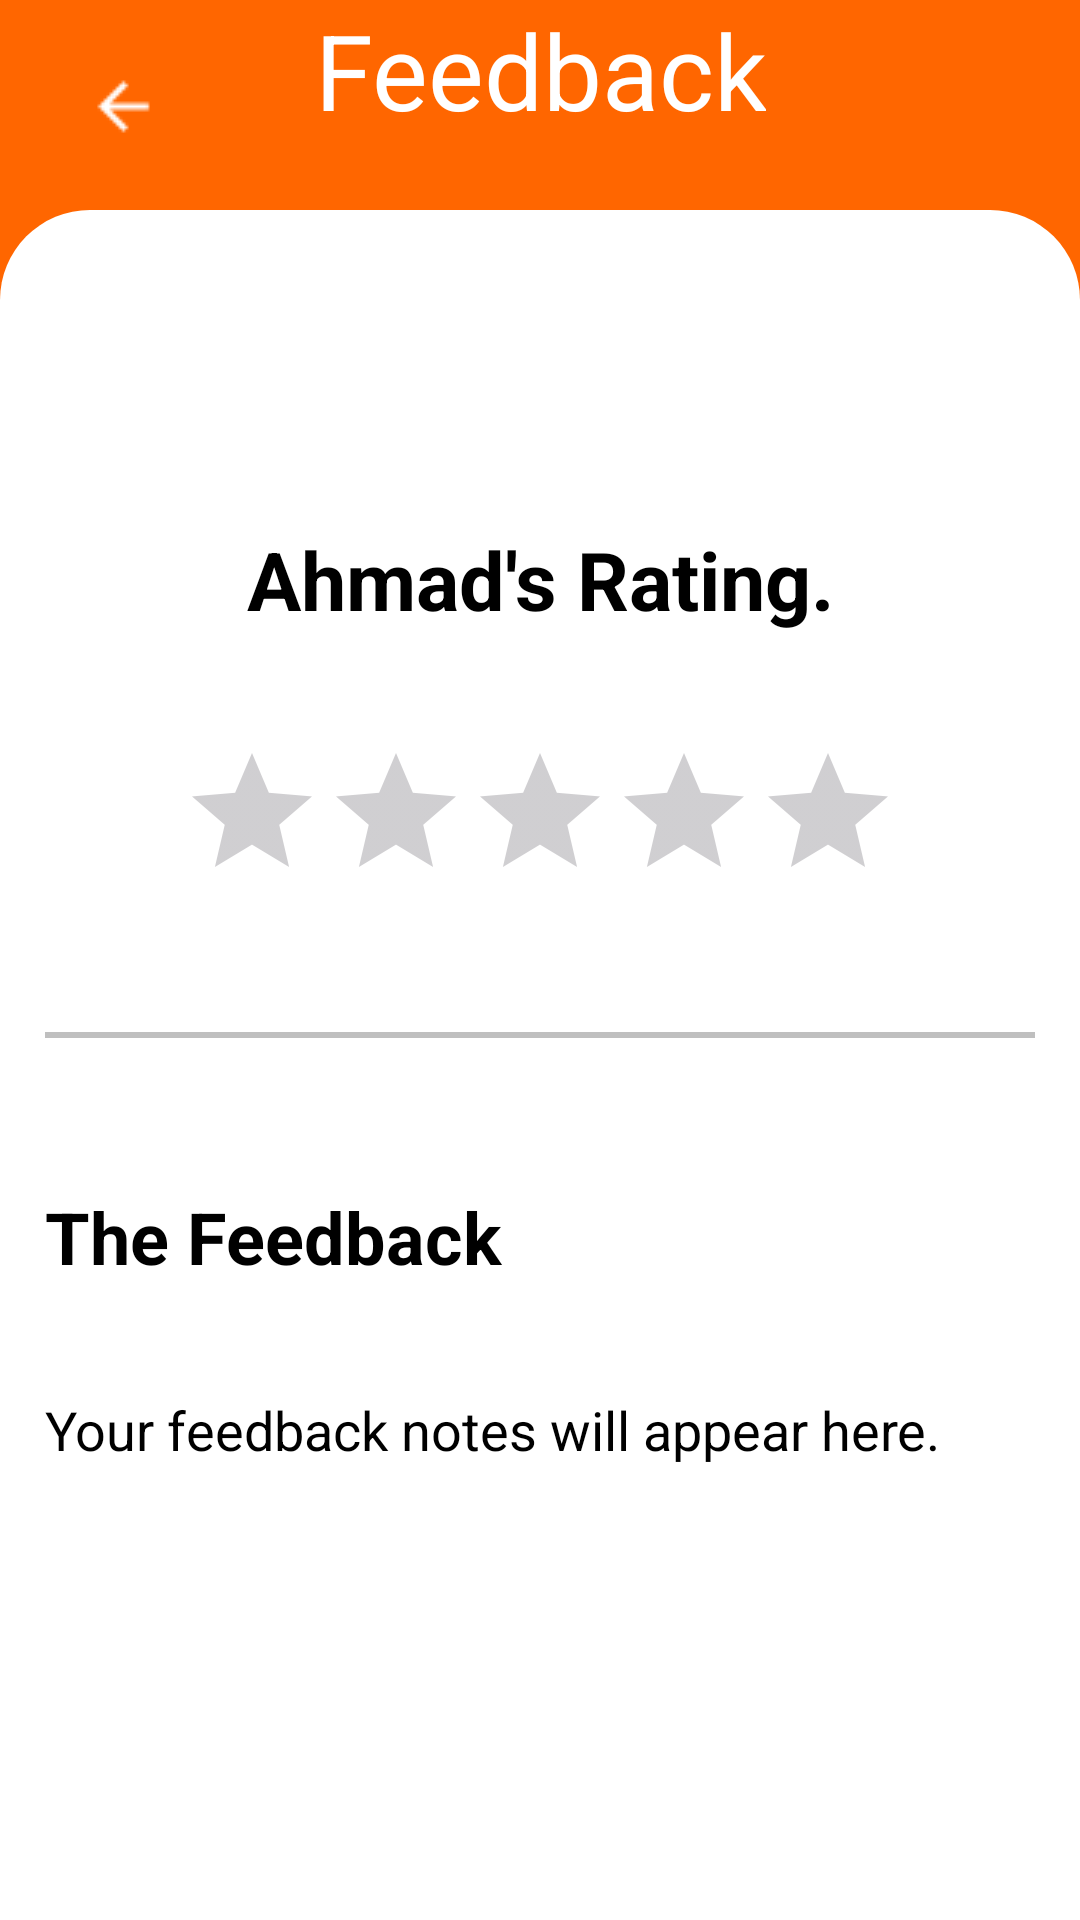

Named icons in this screenshot (1080*1920) and their bounding boxes, (x1, y1, x2, y2):
arrow back: (97, 80, 150, 133)
